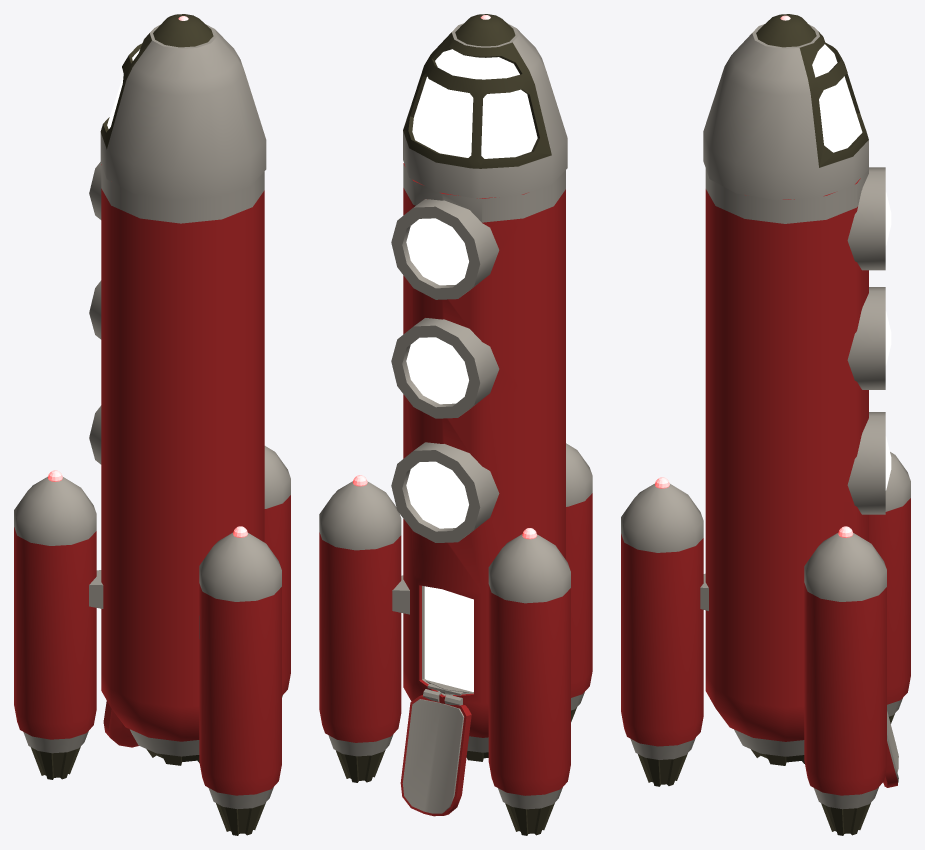
File: SpaceShip.glb
The picture shows the model from 3 angles, left to right: view 1: azimuth 30°, elevation 25°; view 2: azimuth 150°, elevation 25°; view 3: azimuth 270°, elevation 25°; orthographic projection.
Visible parts, largest first — view 1: Cube.047; view 2: Cube.047; view 3: Cube.047.
Boxes of the visible parts, x1,y1,x2,y2 form: Cube.047: (14,14,290,835); Cube.047: (319,14,592,835); Cube.047: (621,14,910,835).
Bounding box in the file's own units: 3.13 × 9.03 × 3.09.
